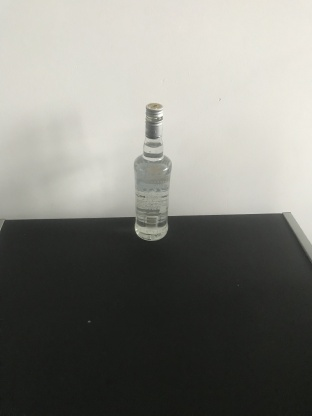nakretka: (143, 101, 164, 139)
